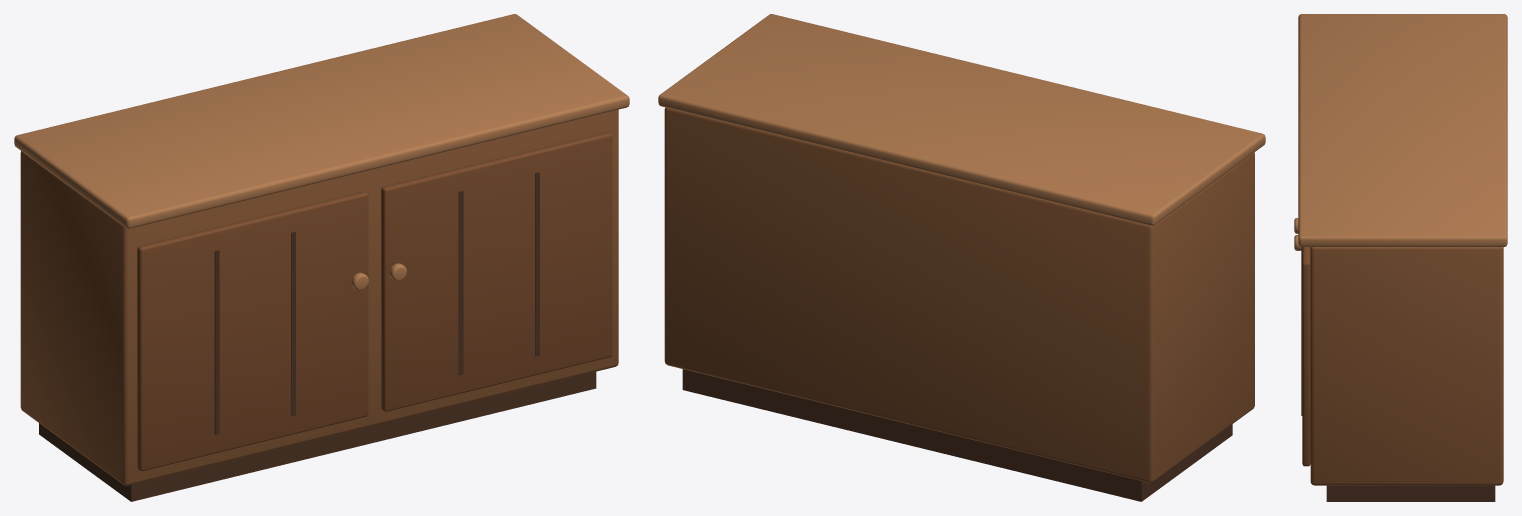
Rendered from sideboard.glb.
3 renders of one model, left to right at view 1: azimuth 30°, elevation 25°; view 2: azimuth 150°, elevation 25°; view 3: azimuth 270°, elevation 25°, orthographic. The views are drawn at different scales.
Parts seen in each view (by area): view 1: sideboard_top, sideboard_body, sideboard_door, sideboard_door.001, sideboard_plinth, sideboard_groove, sideboard_groove.002, sideboard_groove.001, sideboard_groove.003; view 2: sideboard_body, sideboard_top, sideboard_plinth; view 3: sideboard_top, sideboard_body, sideboard_plinth, sideboard_door.001, sideboard_groove.003.
Part boxes in pixels (bbox=[...]): sideboard_top: bbox=[14, 14, 629, 228]; sideboard_body: bbox=[20, 109, 618, 485]; sideboard_door: bbox=[137, 191, 368, 471]; sideboard_door.001: bbox=[381, 132, 612, 411]; sideboard_plinth: bbox=[39, 371, 596, 501]; sideboard_groove: bbox=[214, 250, 219, 434]; sideboard_groove.002: bbox=[458, 190, 463, 375]; sideboard_groove.001: bbox=[291, 231, 295, 416]; sideboard_groove.003: bbox=[535, 172, 539, 356]; sideboard_body: bbox=[664, 107, 1254, 482]; sideboard_top: bbox=[658, 14, 1265, 225]; sideboard_plinth: bbox=[682, 369, 1232, 501]; sideboard_top: bbox=[1298, 14, 1507, 246]; sideboard_body: bbox=[1310, 247, 1503, 485]; sideboard_plinth: bbox=[1326, 485, 1495, 501]; sideboard_door.001: bbox=[1302, 247, 1310, 466]; sideboard_groove.003: bbox=[1301, 247, 1302, 415].
Size of the model in its own units: 1.32 by 0.75 by 0.53.
